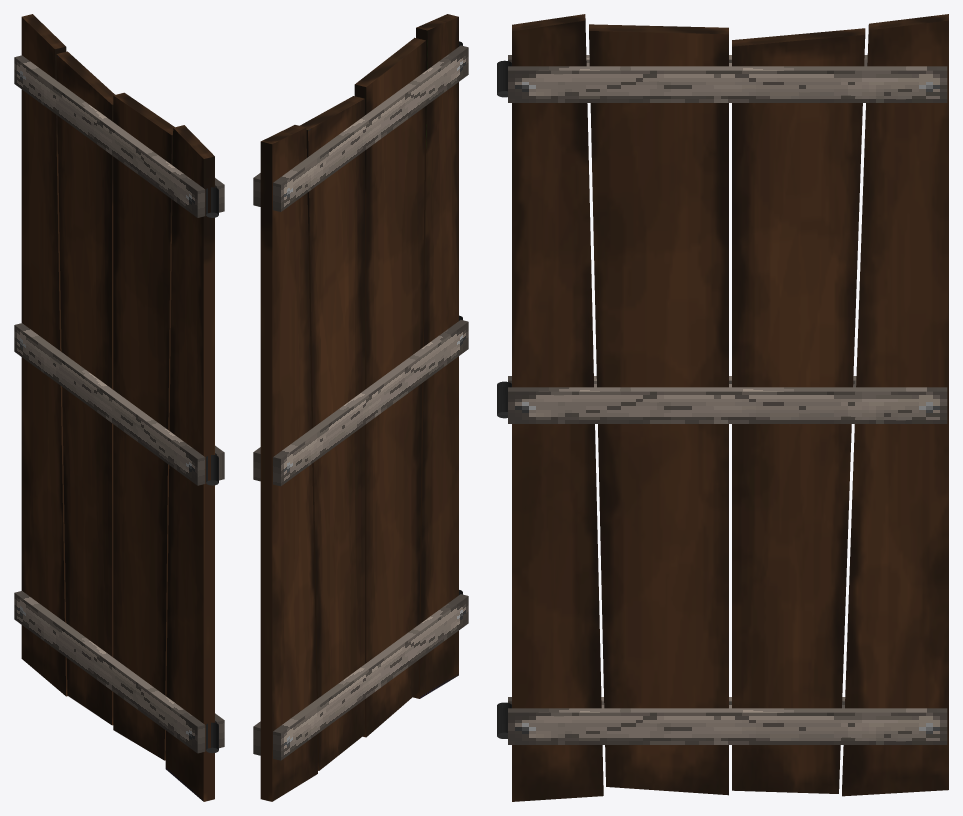
Rendered from WoodenDoor.obj.
The picture shows the model from 3 angles, left to right: view 1: azimuth 30°, elevation 25°; view 2: azimuth 150°, elevation 25°; view 3: azimuth 270°, elevation 25°; orthographic projection. The views are drawn at different scales.
Visible parts, largest first — view 1: Locked_Door(Base)_Door, Locked_Door(Base)_Bar_Support, Locked_Door(Base)_Pivot; view 2: Locked_Door(Base)_Door, Locked_Door(Base)_Bar_Support; view 3: Locked_Door(Base)_Door, Locked_Door(Base)_Bar_Support, Locked_Door(Base)_Pivot.
Part boxes in pixels (x1=…): Locked_Door(Base)_Door: x1=21, y1=14, x2=214, y2=801; Locked_Door(Base)_Bar_Support: x1=14, y1=55, x2=224, y2=753; Locked_Door(Base)_Pivot: x1=206, y1=187, x2=218, y2=753; Locked_Door(Base)_Door: x1=260, y1=14, x2=458, y2=801; Locked_Door(Base)_Bar_Support: x1=253, y1=45, x2=468, y2=760; Locked_Door(Base)_Door: x1=512, y1=14, x2=948, y2=801; Locked_Door(Base)_Bar_Support: x1=508, y1=55, x2=947, y2=744; Locked_Door(Base)_Pivot: x1=497, y1=60, x2=511, y2=738.
Bounding box in the file's own units: 1.06 × 24.37 × 12.77.
